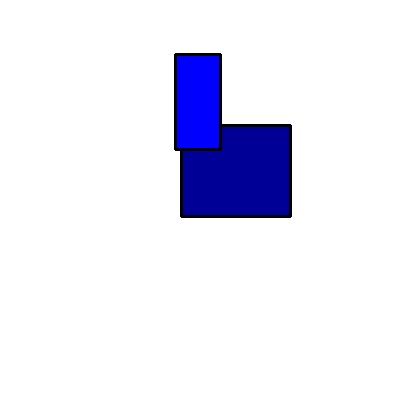rectangle: (181, 125, 290, 216), (175, 54, 220, 149)
